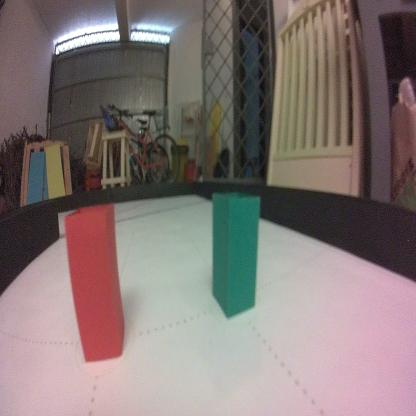green: (210, 192, 260, 320)
red: (60, 205, 125, 362)
